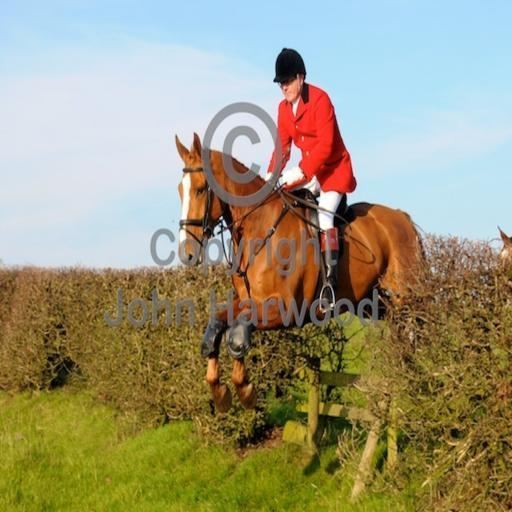horse: (174, 132, 436, 414)
